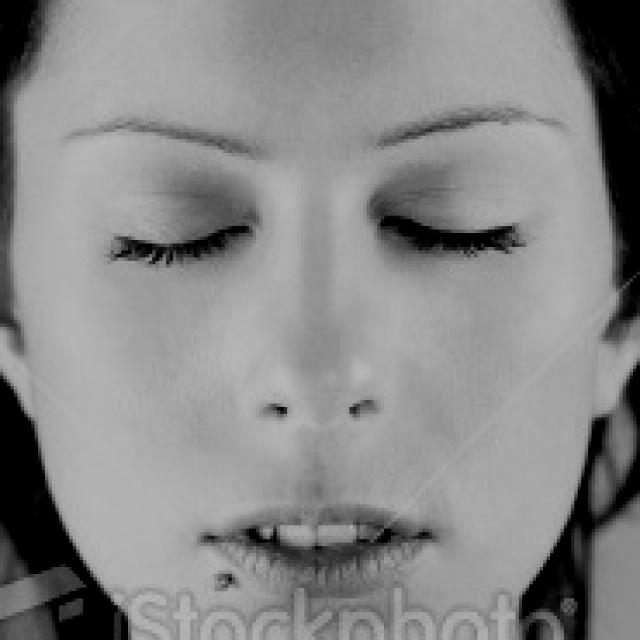real: (18, 18, 606, 624), (72, 161, 556, 290)
